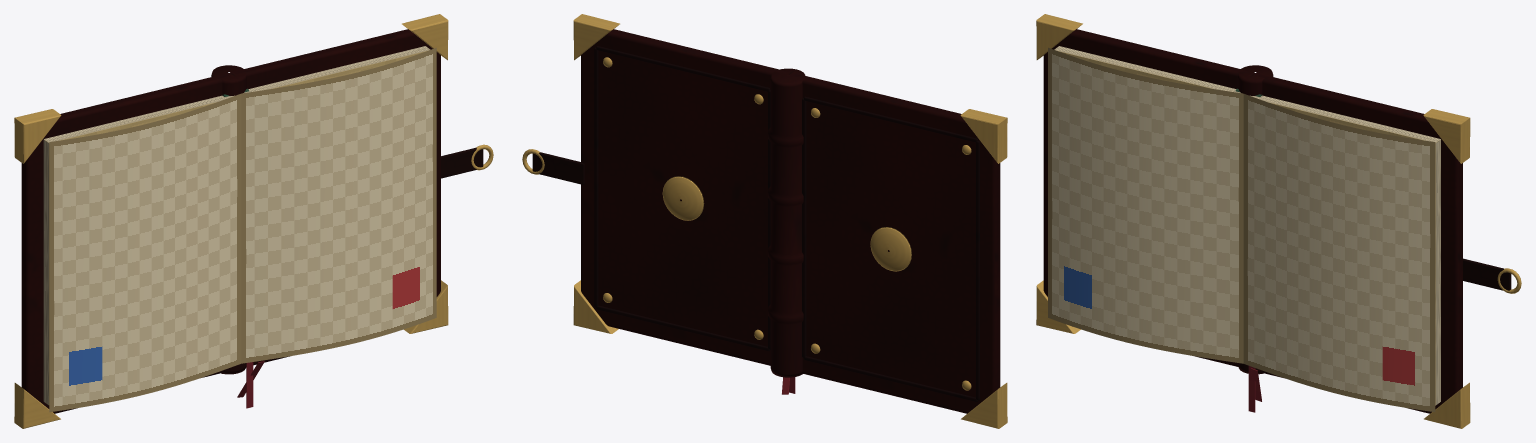
Rendered from grimoire.glb.
3 renders of one model, left to right at view 1: azimuth 30°, elevation 25°; view 2: azimuth 150°, elevation 25°; view 3: azimuth 330°, elevation 25°, orthographic.
Visible parts, largest first — view 1: page_right, page_left, grimoire; view 2: grimoire; view 3: page_left, page_right, grimoire.
Boxes of the visible parts, bbox=[...] form: page_right: bbox=[241, 47, 436, 363]; page_left: bbox=[49, 94, 241, 412]; grimoire: bbox=[14, 14, 493, 428]; grimoire: bbox=[522, 14, 1007, 428]; page_left: bbox=[1048, 47, 1243, 363]; page_right: bbox=[1243, 94, 1435, 412]; grimoire: bbox=[1036, 14, 1521, 428].
Bounding box in the file's own units: 0.5059 × 0.3375 × 0.0545.
10 materials, 10 textured.
